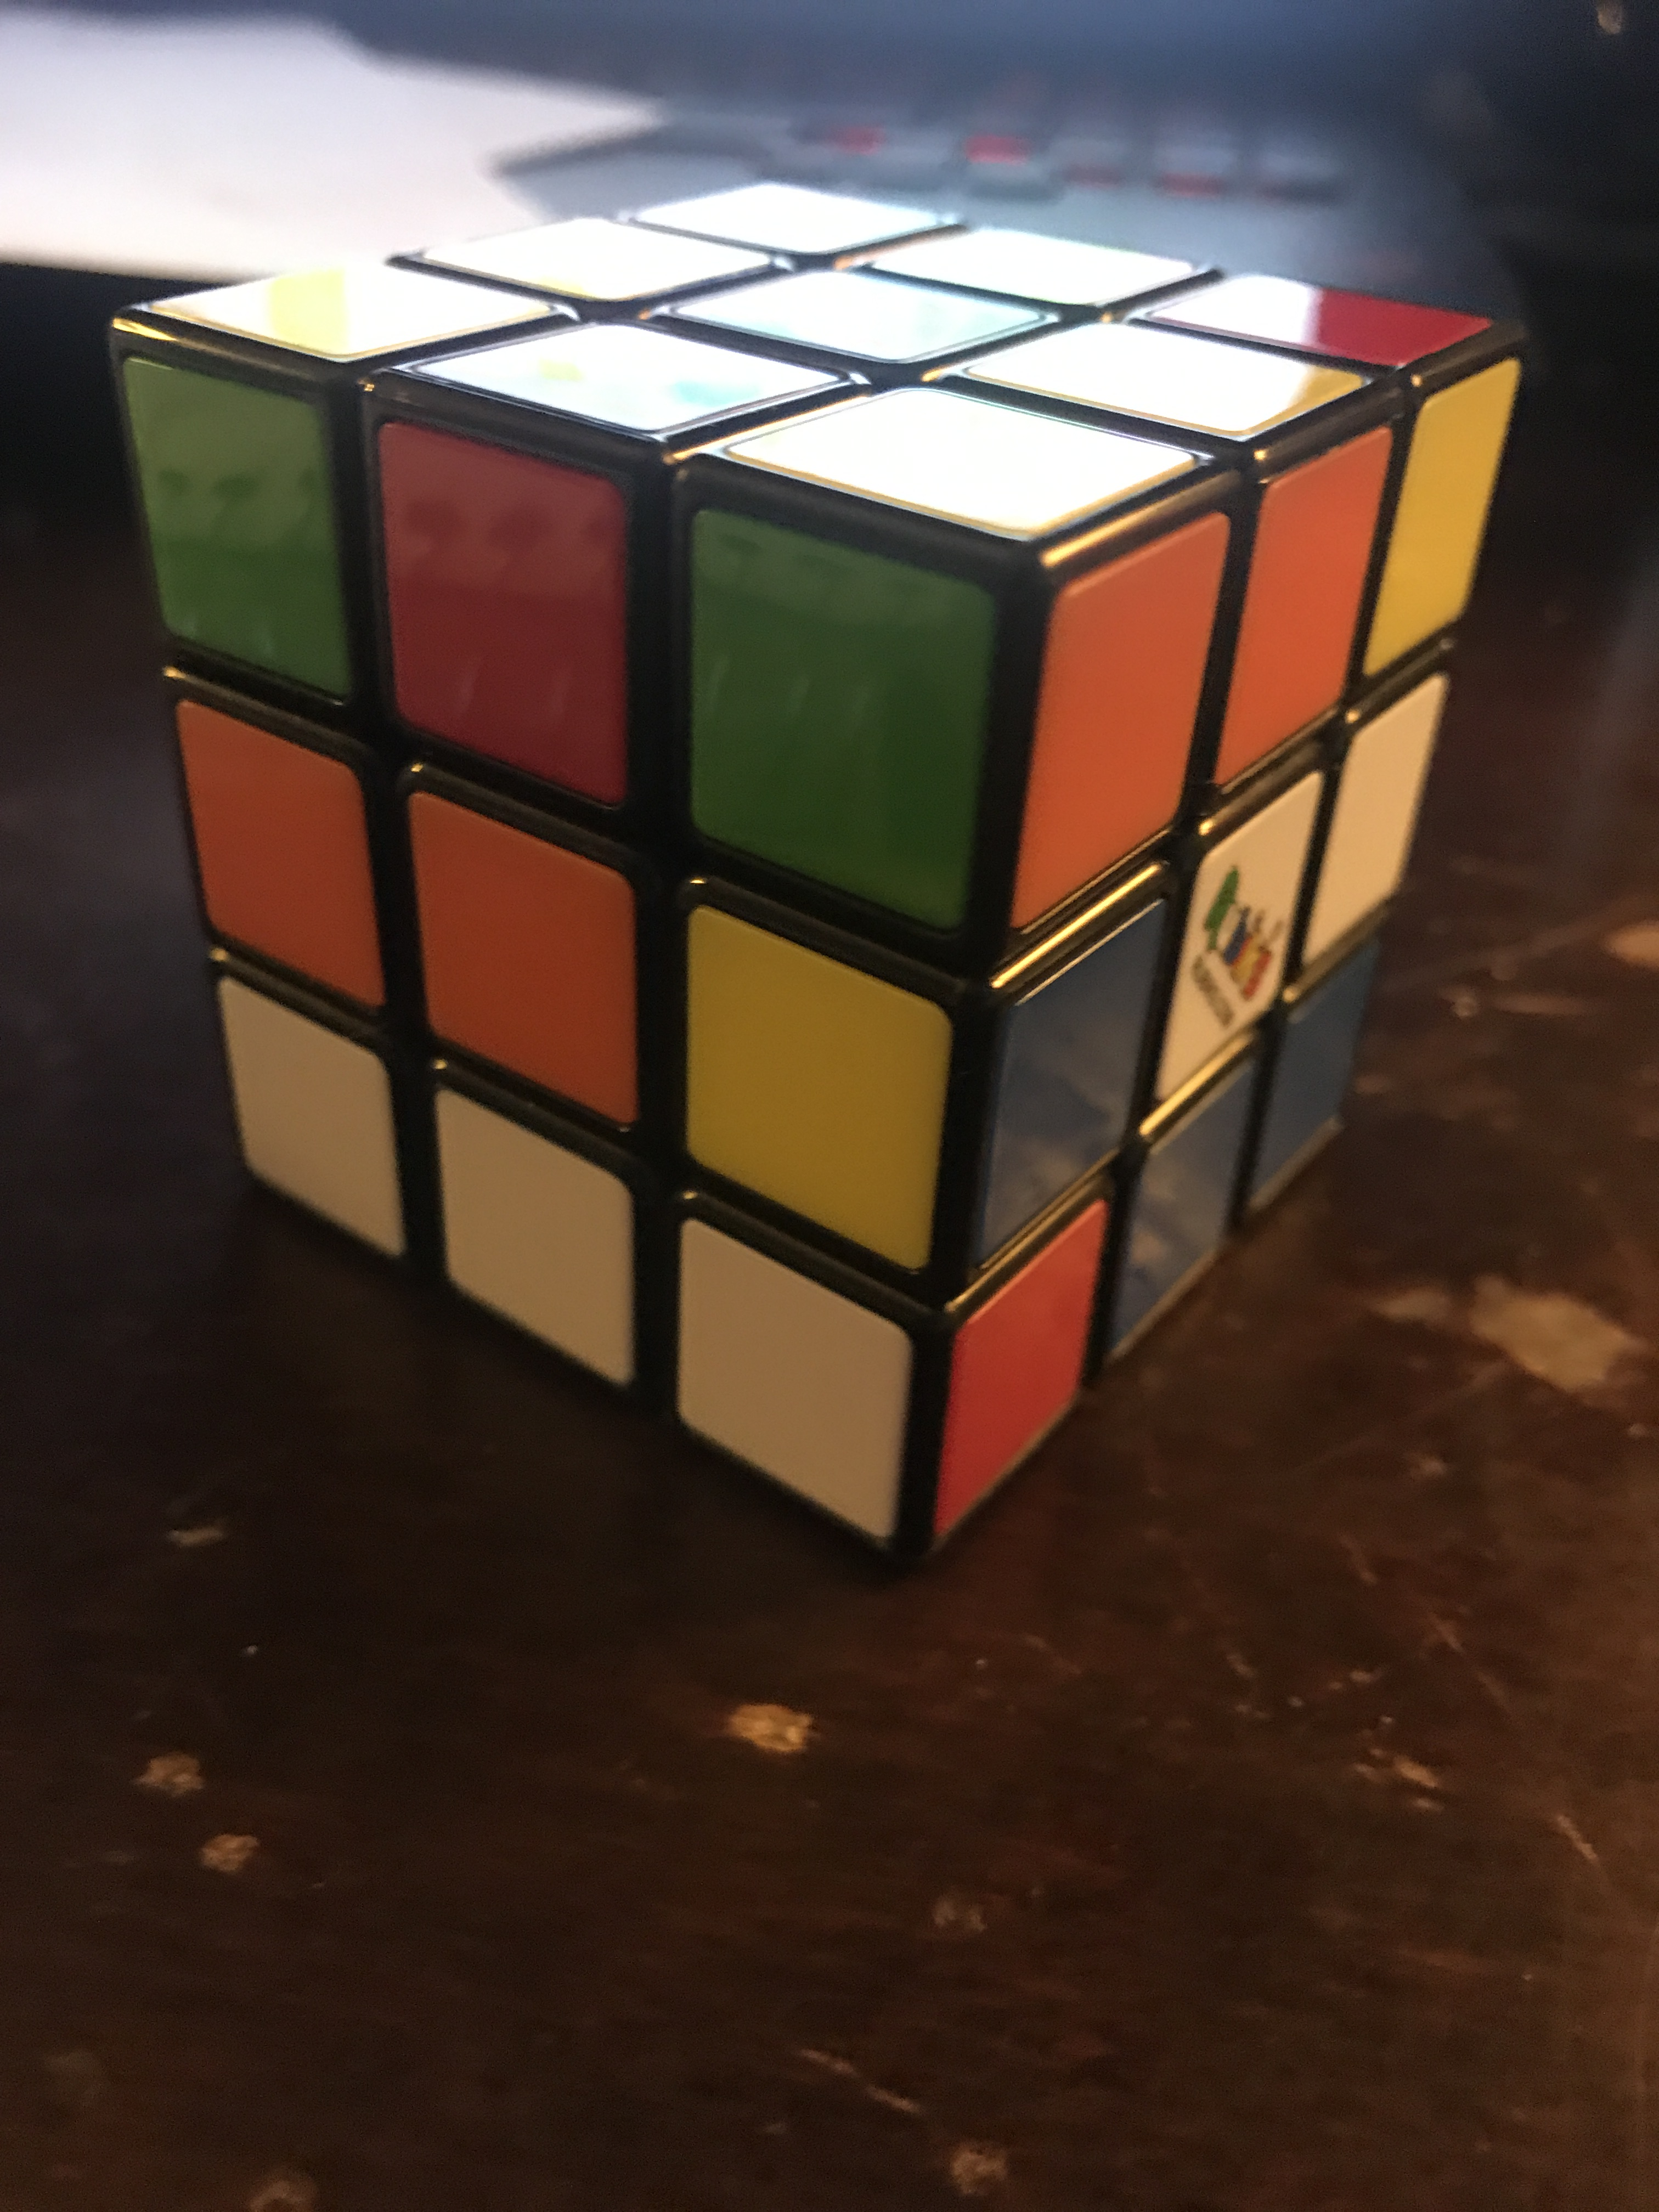rubiks: (110, 181, 1495, 1573)
